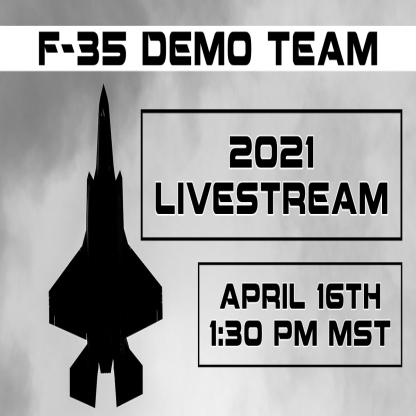F35: (50, 84, 164, 410)
